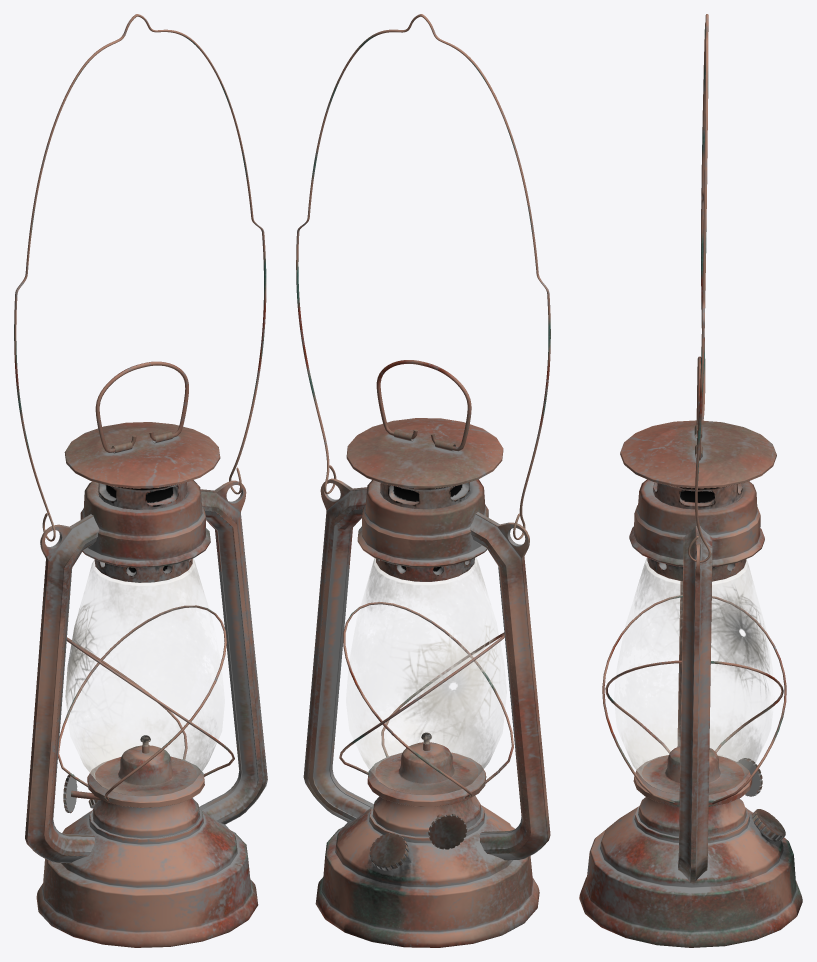
File: old_oil_lamp.glb
The picture shows the model from 3 angles, left to right: view 1: azimuth 30°, elevation 25°; view 2: azimuth 150°, elevation 25°; view 3: azimuth 270°, elevation 25°; orthographic projection.
Parts seen in each view (by area): view 1: Object_2, Object_4, Object_3; view 2: Object_2, Object_4, Object_3; view 3: Object_2, Object_4, Object_3.
Part boxes in pixels (x1,y1,x2,y2): Object_2: [36, 422, 258, 947]; Object_4: [25, 361, 267, 863]; Object_3: [14, 14, 266, 541]; Object_2: [315, 418, 539, 947]; Object_4: [303, 360, 550, 860]; Object_3: [296, 14, 550, 539]; Object_2: [579, 420, 802, 947]; Object_4: [621, 356, 770, 882]; Object_3: [688, 14, 710, 562].
Size of the model in its own units: 3.72 by 12.5 by 2.85.
1 material, 1 textured.
